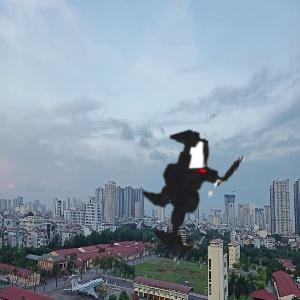drone: (96, 97, 296, 297)
